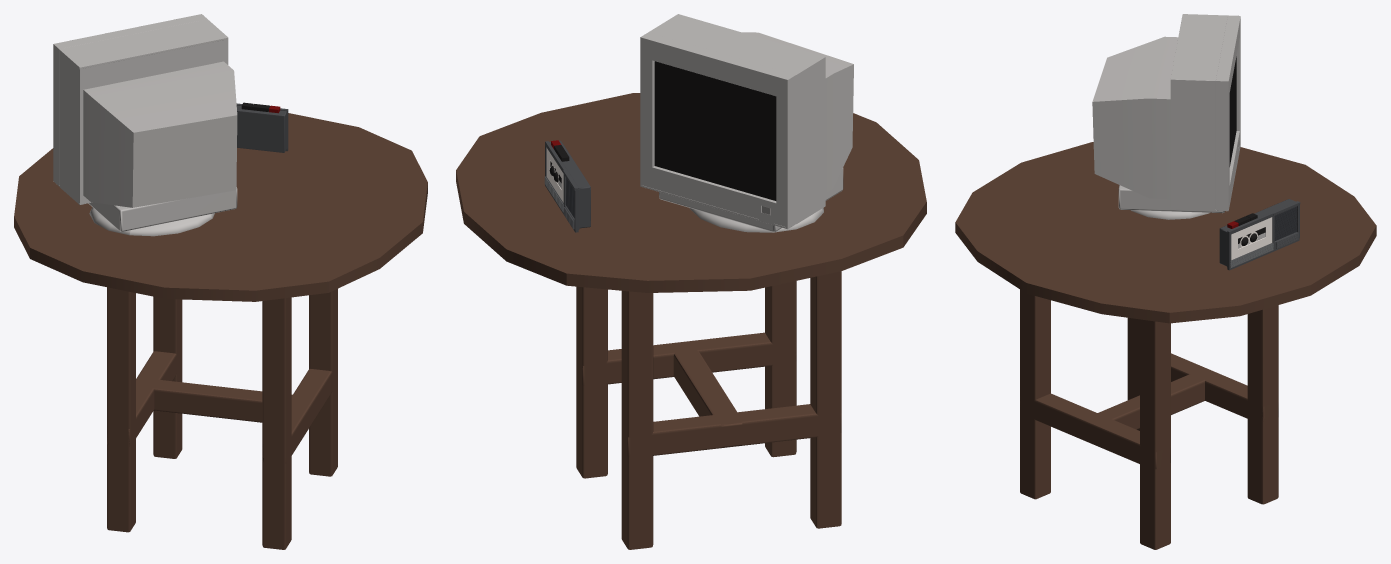
Rendered from rr-tv-table.glb.
3 views of the same model, side by side, from view 1: azimuth 30°, elevation 25°; view 2: azimuth 150°, elevation 25°; view 3: azimuth 270°, elevation 25° (orthographic). The views are drawn at different scales.
Parts seen in each view (by area): view 1: Brown_Wood Grain, Mist_Glossy Plastic, Smoke_Galvanized Metal; view 2: Brown_Wood Grain, Mist_Glossy Plastic, Black_Glossy Plastic, Smoke_Galvanized Metal; view 3: Brown_Wood Grain, Mist_Glossy Plastic, Smoke_Galvanized Metal, White_Wood Floor, Black_Glossy Plastic, Charcoal_Galvanized Metal.
Boxes of the visible parts, left/top/right/bottom form: Brown_Wood Grain: left=14, top=113, right=427, bottom=549; Mist_Glossy Plastic: left=53, top=14, right=237, bottom=236; Smoke_Galvanized Metal: left=236, top=103, right=288, bottom=152; Brown_Wood Grain: left=456, top=93, right=926, bottom=549; Mist_Glossy Plastic: left=640, top=14, right=853, bottom=232; Black_Glossy Plastic: left=654, top=61, right=776, bottom=200; Smoke_Galvanized Metal: left=545, top=140, right=590, bottom=232; Brown_Wood Grain: left=955, top=142, right=1376, bottom=549; Mist_Glossy Plastic: left=1092, top=14, right=1240, bottom=219; Smoke_Galvanized Metal: left=1219, top=199, right=1300, bottom=270; White_Wood Floor: left=1231, top=217, right=1272, bottom=260; Black_Glossy Plastic: left=1229, top=56, right=1236, bottom=166; Charcoal_Galvanized Metal: left=1274, top=206, right=1297, bottom=240.
Bounding box in the file's own units: 1.29 × 1.43 × 1.29.
